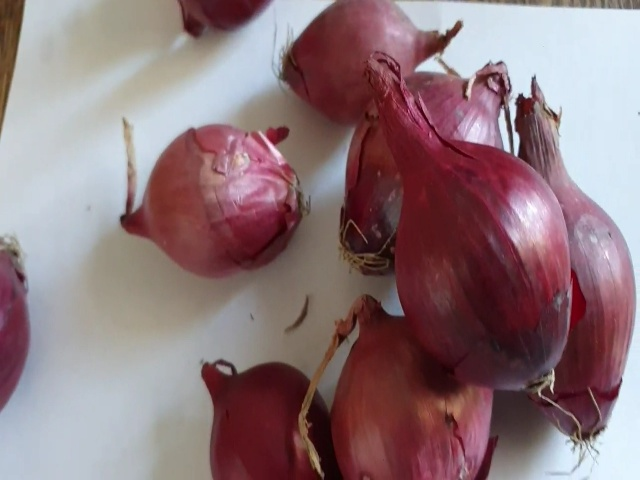red_onion: (359, 54, 568, 402), (104, 109, 313, 274), (193, 345, 326, 480), (320, 293, 409, 479), (411, 58, 519, 144)
